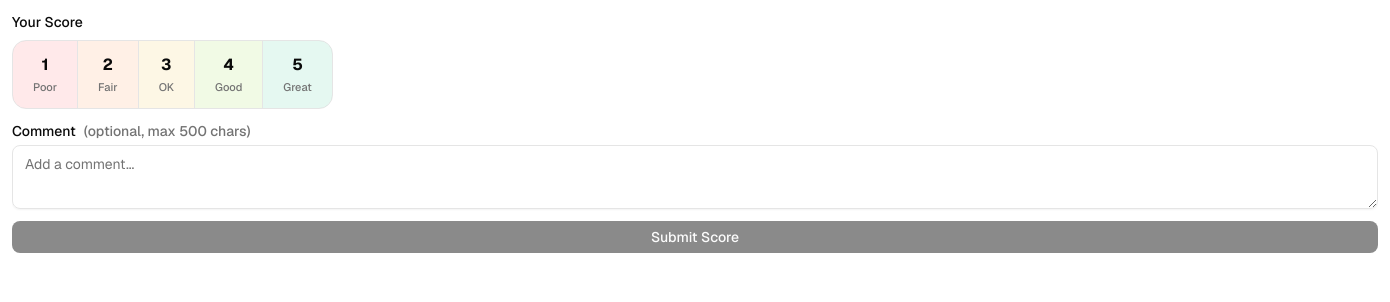
Scenario: ScoreForm › shows success message on successful submission
Click the radio button with aria-label "Score 4" at point(229, 74), box [195,41,263,108]
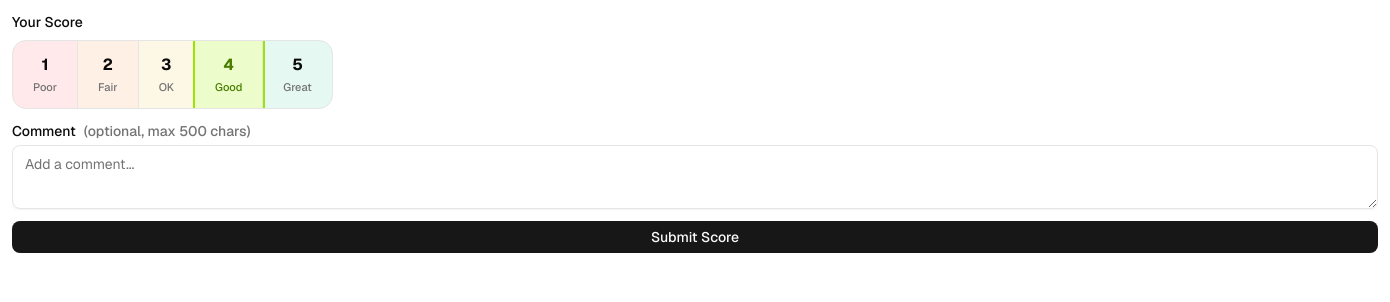
Click the button "Submit Score" at point(695, 236), box [12,220,1378,252]
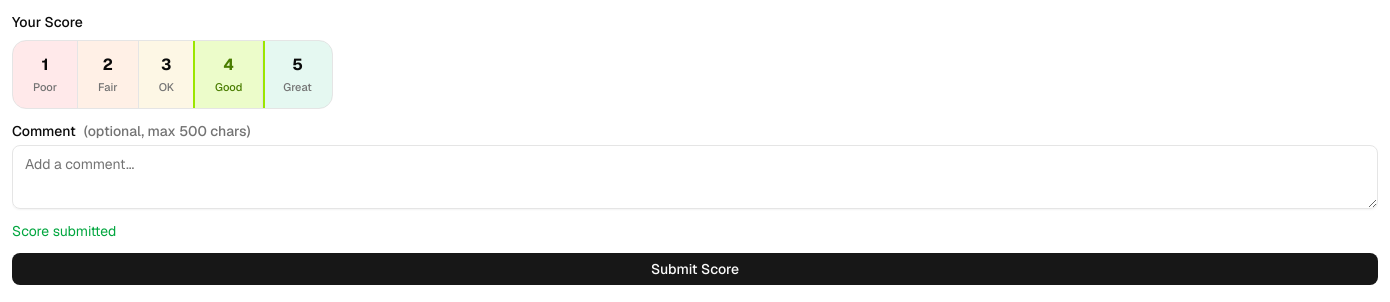
Result: the message reads "Score submitted" at [12,222,116,240]
